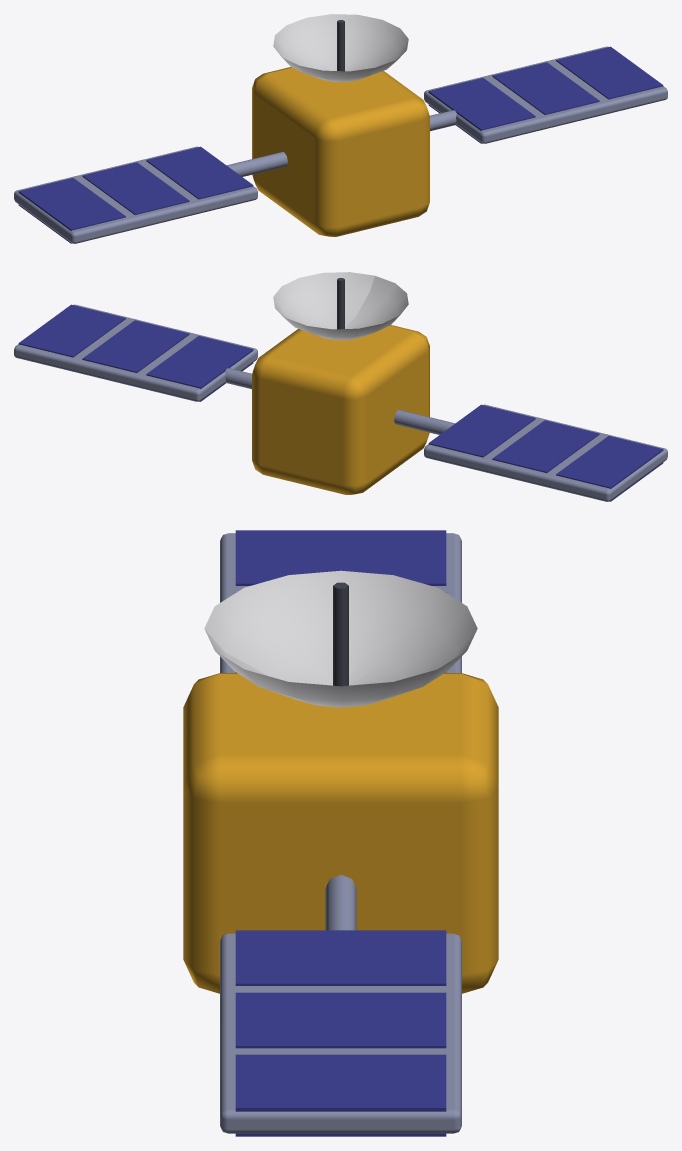
Rendered from satelite.glb.
3 renders of one model, top to bottom at view 1: azimuth 30°, elevation 25°; view 2: azimuth 150°, elevation 25°; view 3: azimuth 270°, elevation 25°, orthographic. The views are drawn at different scales.
Visible parts, largest first — view 1: modelo; view 2: modelo; view 3: modelo.
Boxes of the visible parts, x1=… form: modelo: x1=14, y1=14, x2=667, y2=243; modelo: x1=14, y1=272, x2=667, y2=501; modelo: x1=183, y1=530, x2=498, y2=1136.
Bounding box in the file's own units: 2.45 × 0.72 × 0.5611.
